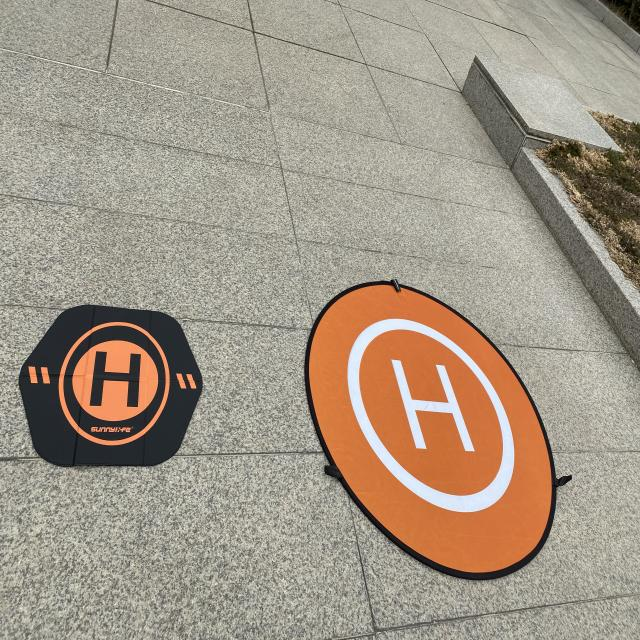helipad: (347, 317, 516, 514), (57, 320, 172, 447)
